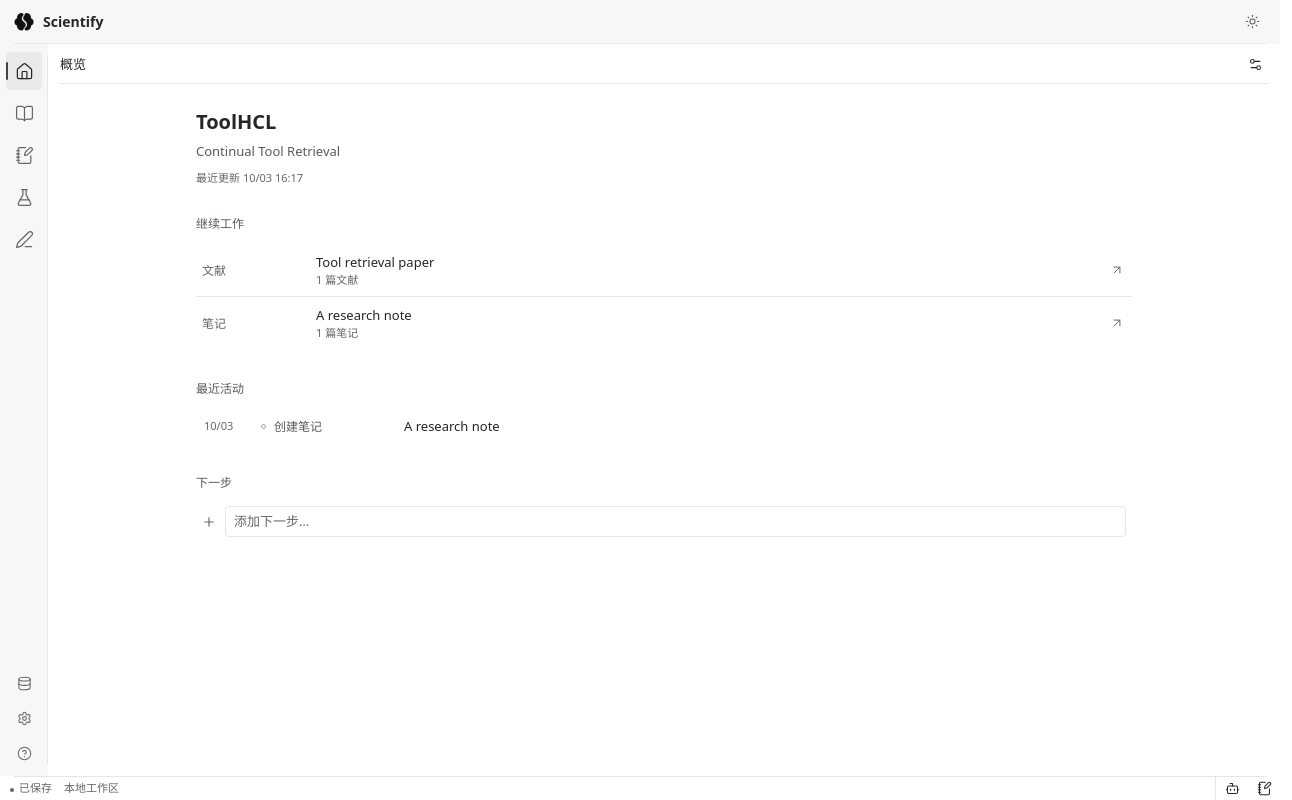
Test: provides the five primary workspace destinations and starts with AI closed
Check: the heading "ToolHCL" is shown, box x1=196 y1=108 x2=276 y2=136
Check: the button named "概览" is empty, box x1=6 y1=52 x2=42 y2=90
Click the button named "AI 助手". click: (1232, 788)
box: x1=1216 y1=776 x2=1248 y2=799
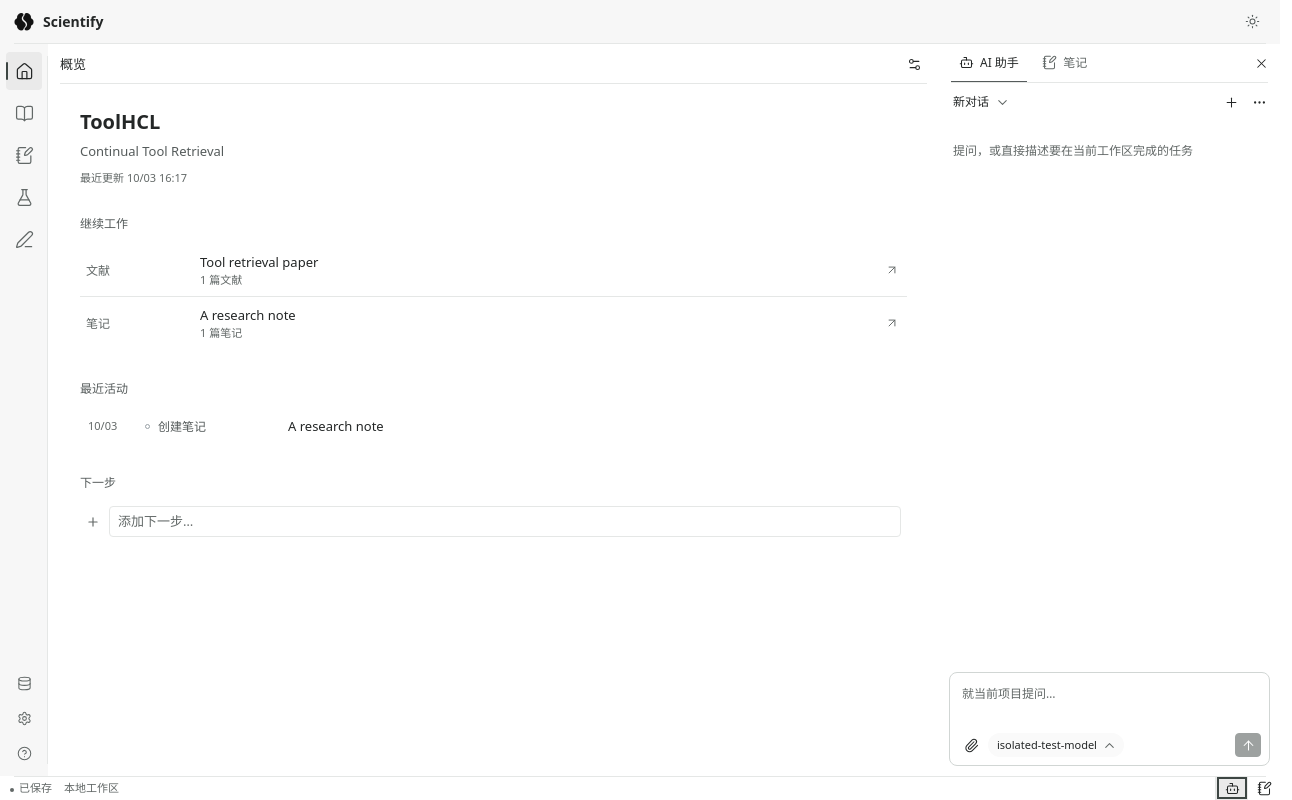
Check: the text box with placeholder "就当前项目提问…" is shown, box x1=958 y1=681 x2=1261 y2=733
Click the button named "收起辅助栏". click: (1261, 64)
box: x1=1248 y1=50 x2=1274 y2=76
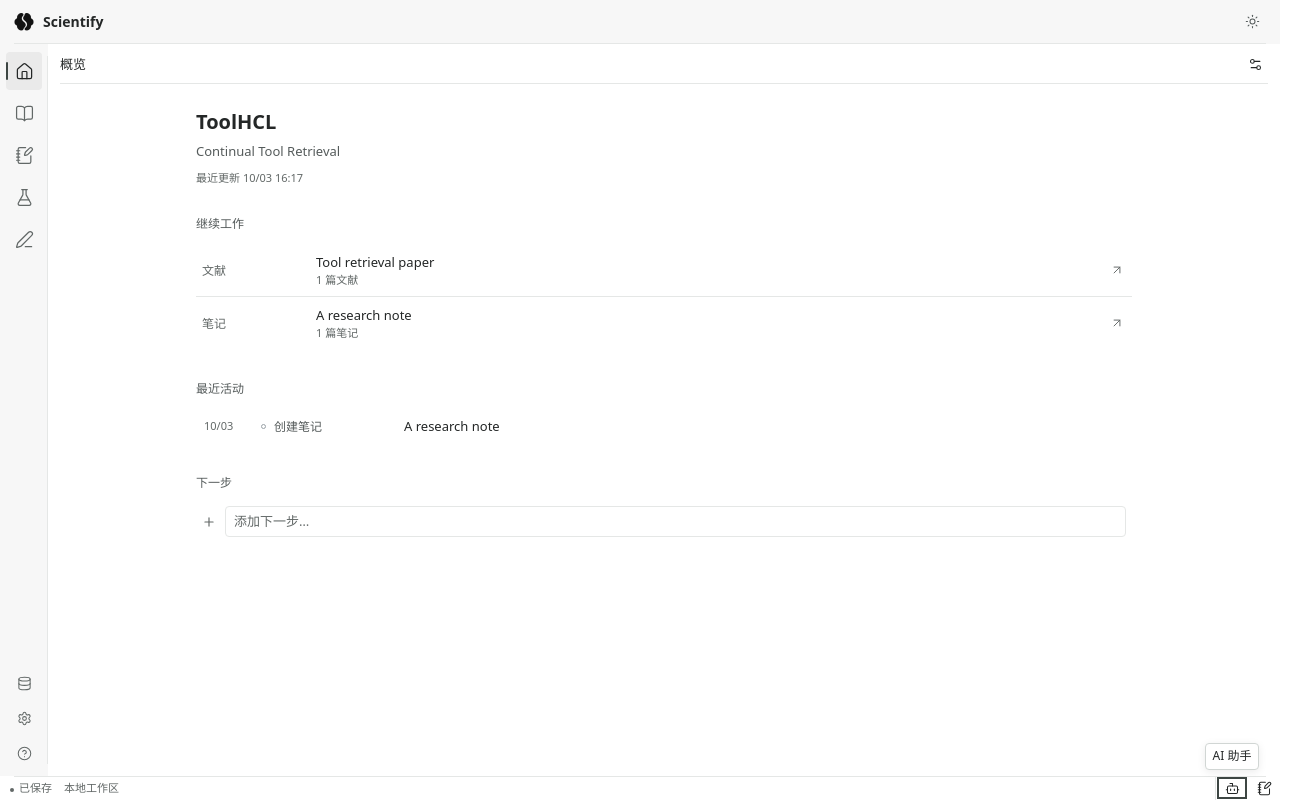
Click the button with aria-label "Scientify 项目管理". click: (58, 22)
box: x1=12 y1=9 x2=103 y2=35
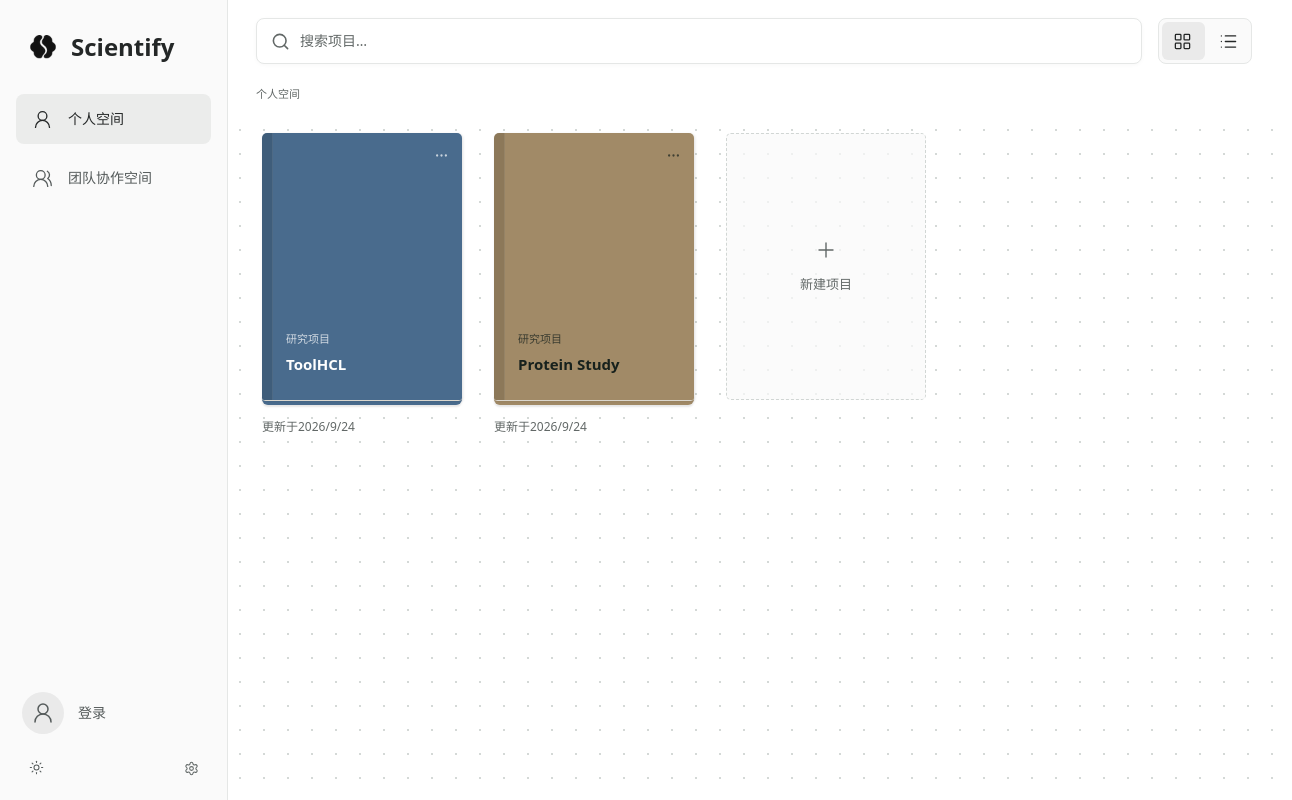
Check: the element "工作区导航" is gone
Check: the button named "设置" is shown, box x1=177 y1=754 x2=205 y2=782
Check: the button "数据与备份" is gone
Click the button "研究项目 ToolHCL". click: (362, 266)
box: x1=262 y1=133 x2=462 y2=400
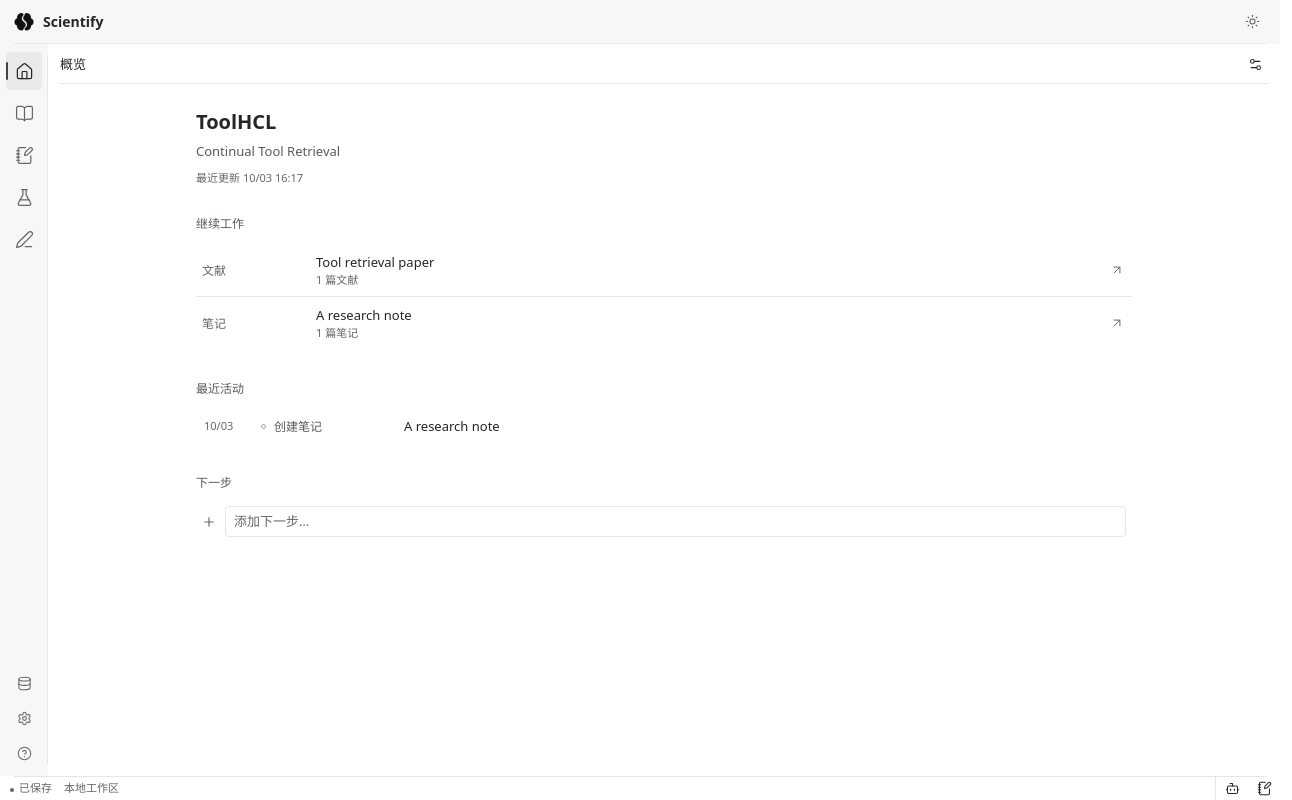
Check: the button named "文献" is shown, box x1=6 y1=94 x2=42 y2=132
